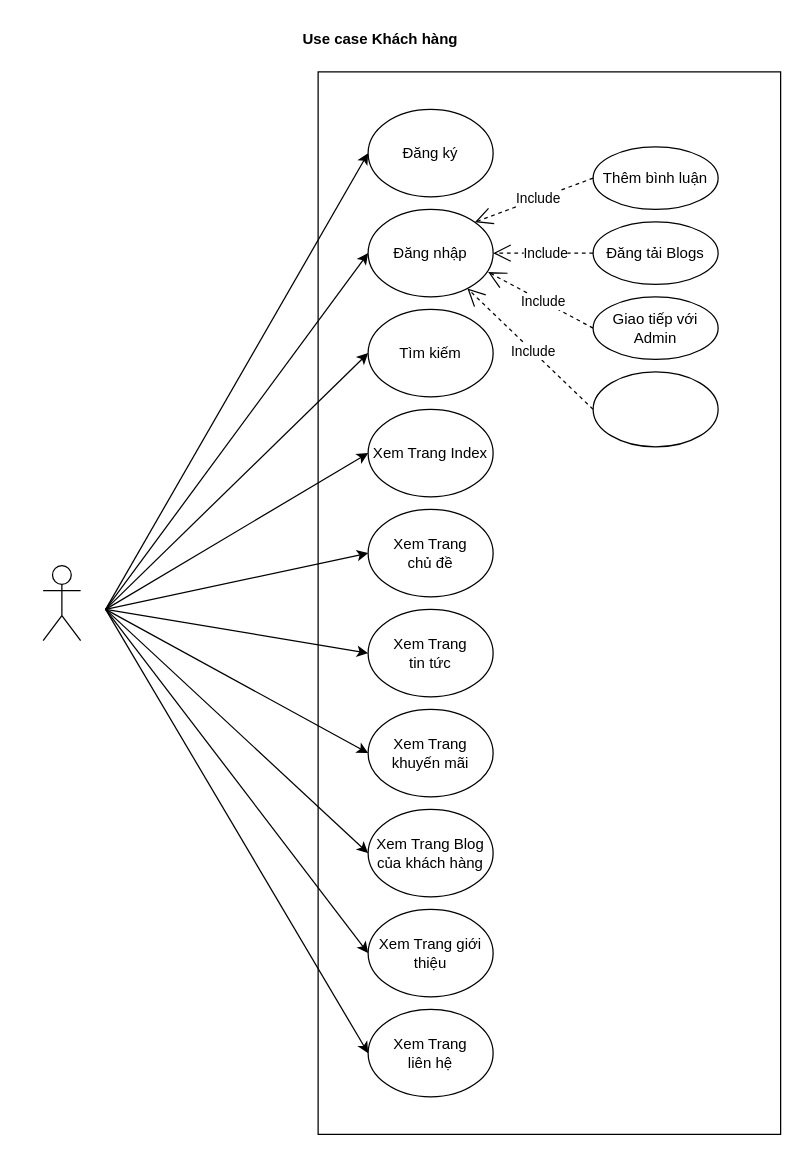
The diagram is 803 pixels wide and 1156 high, and some of its shapes have lost their labels. The shapes that lost their labels are listed below. From the top down, each one's centre as x and y in pixels, then its label:
At (x=655, y=409): "Phản hồi với Công ty chủ quản".
At (x=61, y=602): "Khách hàng".
